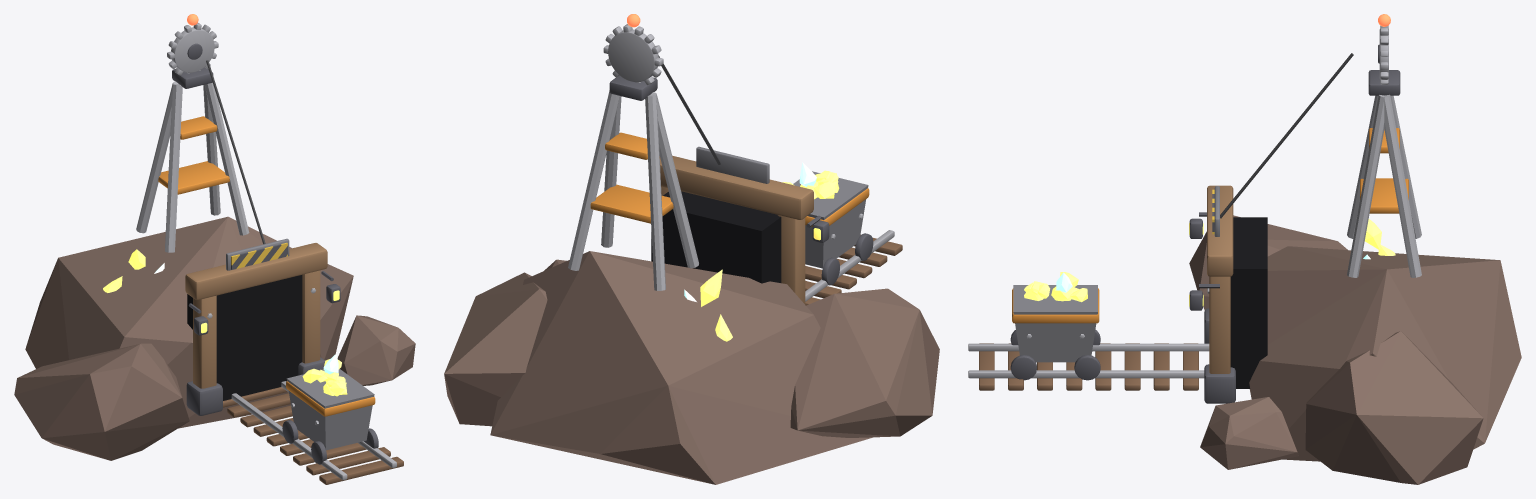
Rendered from MineShaft.glb.
3 views of the same model, side by side, from view 1: azimuth 30°, elevation 25°; view 2: azimuth 150°, elevation 25°; view 3: azimuth 270°, elevation 25° (orthographic). The views are drawn at different scales.
Parts seen in each view (by area): view 1: MineShaft; view 2: MineShaft; view 3: MineShaft.
Boxes of the visible parts, bbox=[...] form: MineShaft: bbox=[14, 14, 415, 484]; MineShaft: bbox=[444, 14, 939, 484]; MineShaft: bbox=[968, 14, 1521, 484].
Size of the model in its own units: 1.72 by 1.68 by 2.09.
